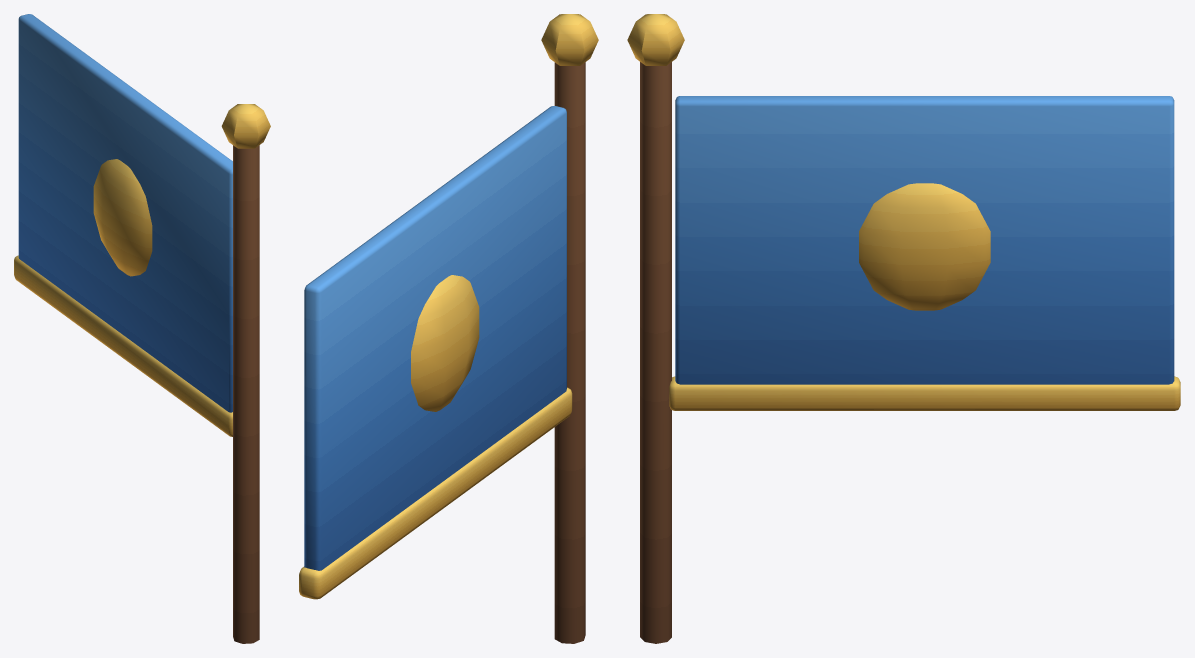
The model's file is flagB.glb.
3 renders of one model, left to right at view 1: azimuth 30°, elevation 25°; view 2: azimuth 150°, elevation 25°; view 3: azimuth 270°, elevation 25°, orthographic. The views are drawn at different scales.
Visible parts, largest first — view 1: flagB; view 2: flagB; view 3: flagB.
Boxes of the visible parts, left/top/right/bottom form: flagB: left=14, top=14, right=270, bottom=643; flagB: left=299, top=14, right=598, bottom=643; flagB: left=627, top=14, right=1180, bottom=643.
Size of the model in its own units: 0.0779 by 1.07 by 0.865.
1 material, 1 textured.
